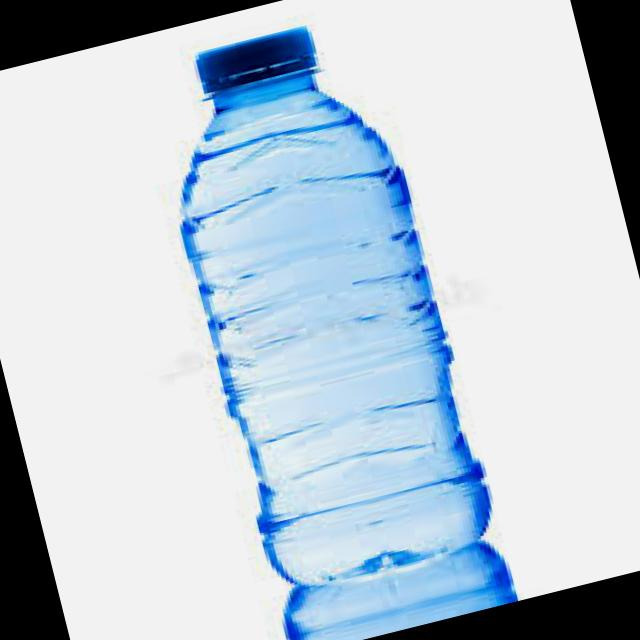bottle: (180, 29, 488, 585), (282, 541, 517, 639)
plastic: (195, 27, 314, 93)
